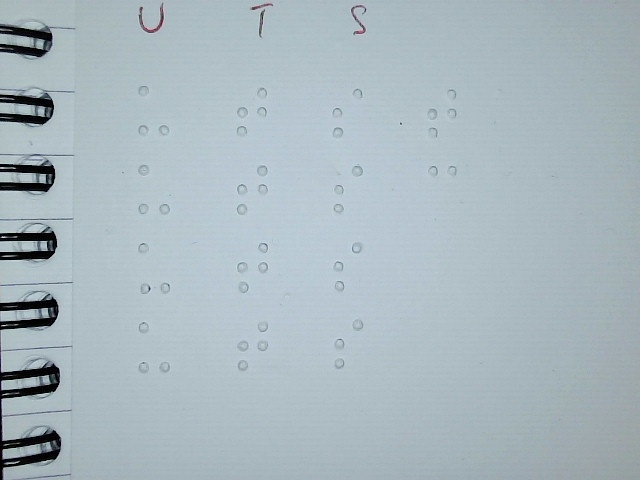S: (330, 85, 364, 139), (331, 162, 365, 216), (330, 239, 364, 293), (331, 316, 365, 370)
T: (235, 84, 269, 138), (235, 162, 269, 216), (236, 240, 270, 294), (236, 318, 270, 372)
U: (137, 83, 171, 137), (137, 160, 171, 214), (137, 241, 171, 295), (137, 320, 171, 374)
